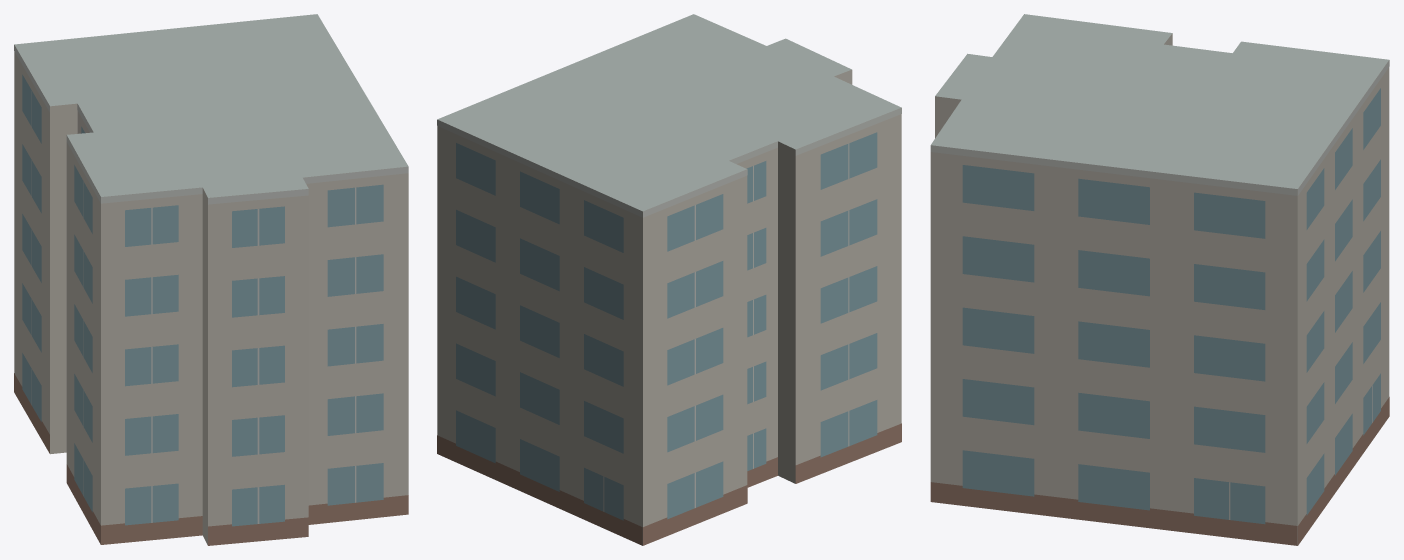
File: survey-upis-32878354.glb
The picture shows the model from 3 angles, left to right: view 1: azimuth 30°, elevation 25°; view 2: azimuth 150°, elevation 25°; view 3: azimuth 270°, elevation 25°; orthographic projection. The views are drawn at different scales.
Visible parts, largest first — view 1: survey-upis-32878354.tmp; view 2: survey-upis-32878354.tmp; view 3: survey-upis-32878354.tmp.
Boxes of the visible parts, box(x1,y1,x2,y2) form: survey-upis-32878354.tmp: box(14, 14, 408, 545); survey-upis-32878354.tmp: box(437, 14, 901, 545); survey-upis-32878354.tmp: box(930, 14, 1389, 545).
Size of the model in its own units: 13.54 by 12.85 by 14.99.
